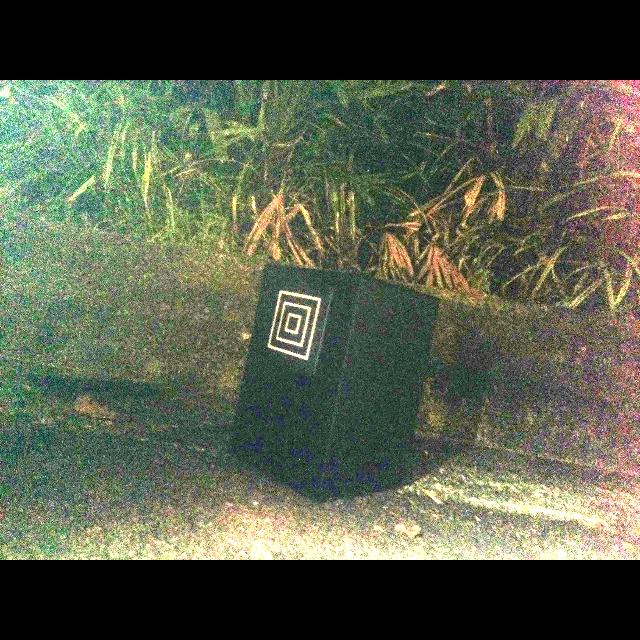BULLSEYE: (268, 291, 321, 361)
